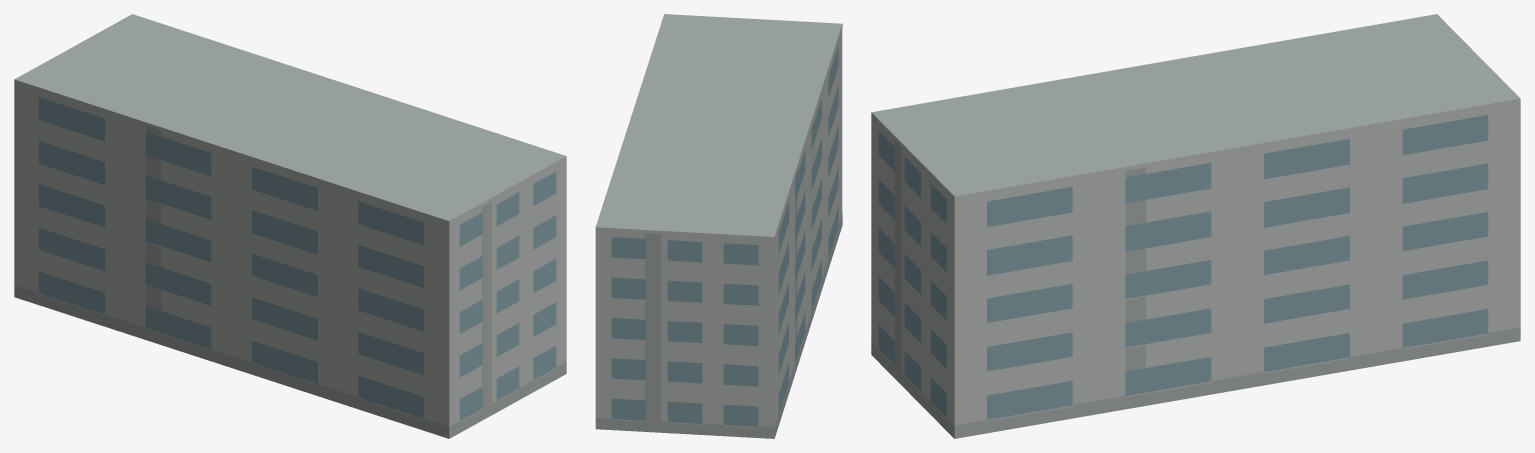
Rendered from survey-upis-32549218.glb.
3 renders of one model, left to right at view 1: azimuth 30°, elevation 25°; view 2: azimuth 150°, elevation 25°; view 3: azimuth 270°, elevation 25°, orthographic. The views are drawn at different scales.
Parts seen in each view (by area): view 1: survey-upis-32549218.tmp; view 2: survey-upis-32549218.tmp; view 3: survey-upis-32549218.tmp.
Part boxes in pixels (x1=…): survey-upis-32549218.tmp: x1=14, y1=14, x2=566, y2=438; survey-upis-32549218.tmp: x1=595, y1=14, x2=842, y2=438; survey-upis-32549218.tmp: x1=871, y1=14, x2=1520, y2=438.
Bounding box in the file's own units: 23.48 × 14.55 × 35.31.
